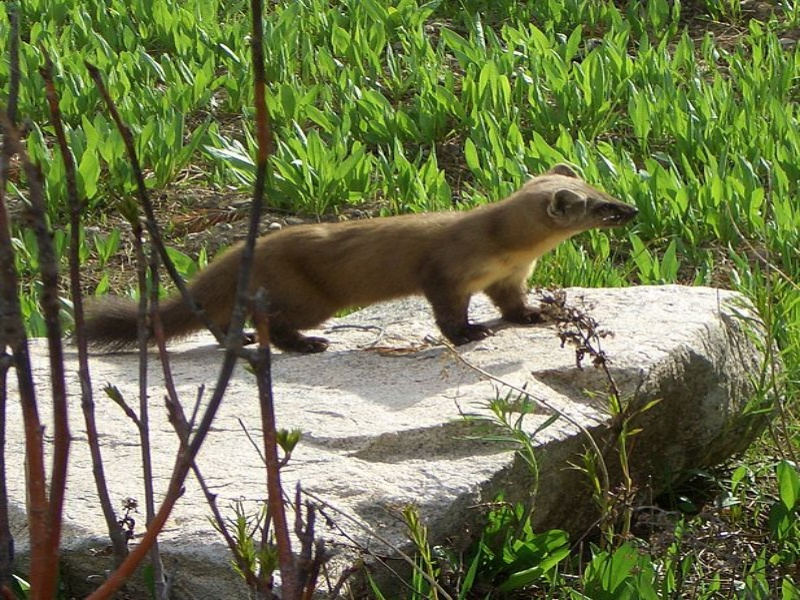minkish: (68, 156, 640, 370)
